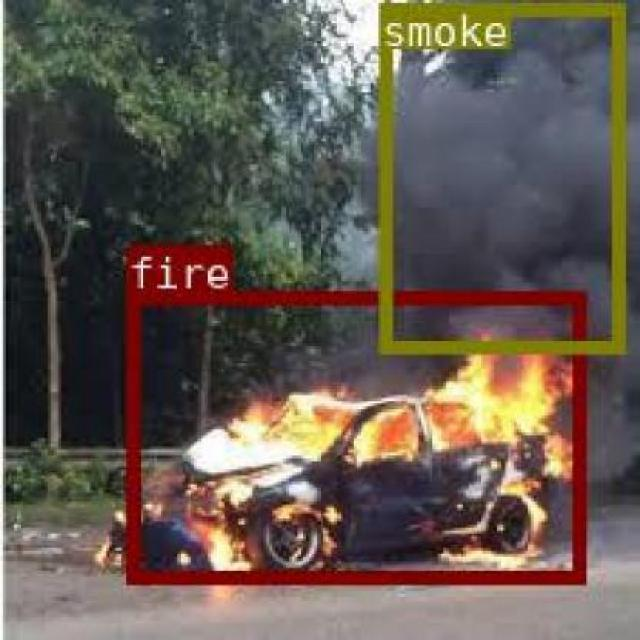Fire: (123, 290, 582, 581)
Smoke: (376, 1, 622, 350)
